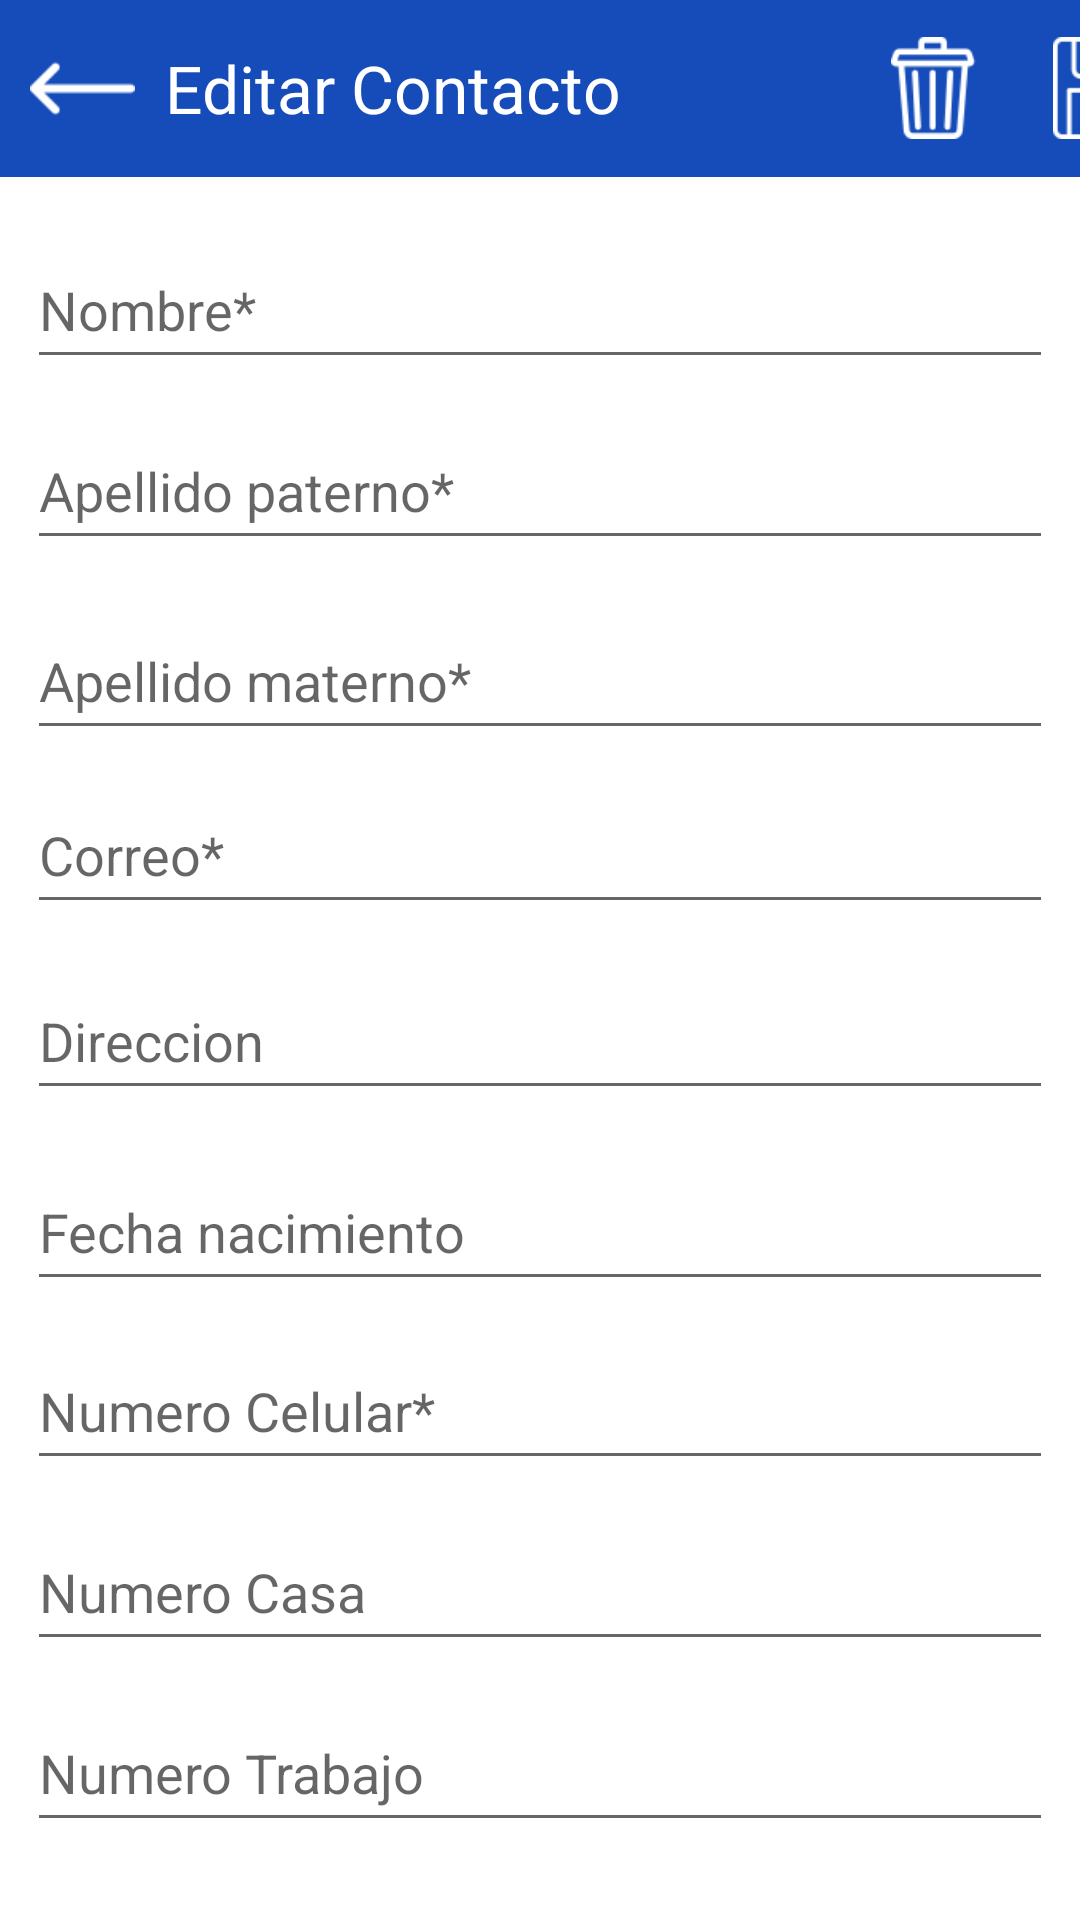

Named icons in this screenshot (1080 × 1920) and their bounding boxes, (x1, y1, x2, y2):
delete: (891, 37, 976, 139)
flecha: (30, 62, 135, 115)
